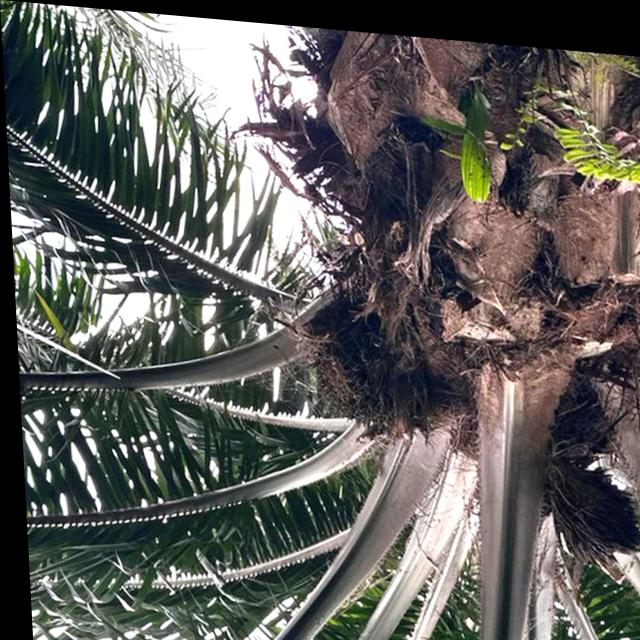unripe: (291, 311, 420, 438)
